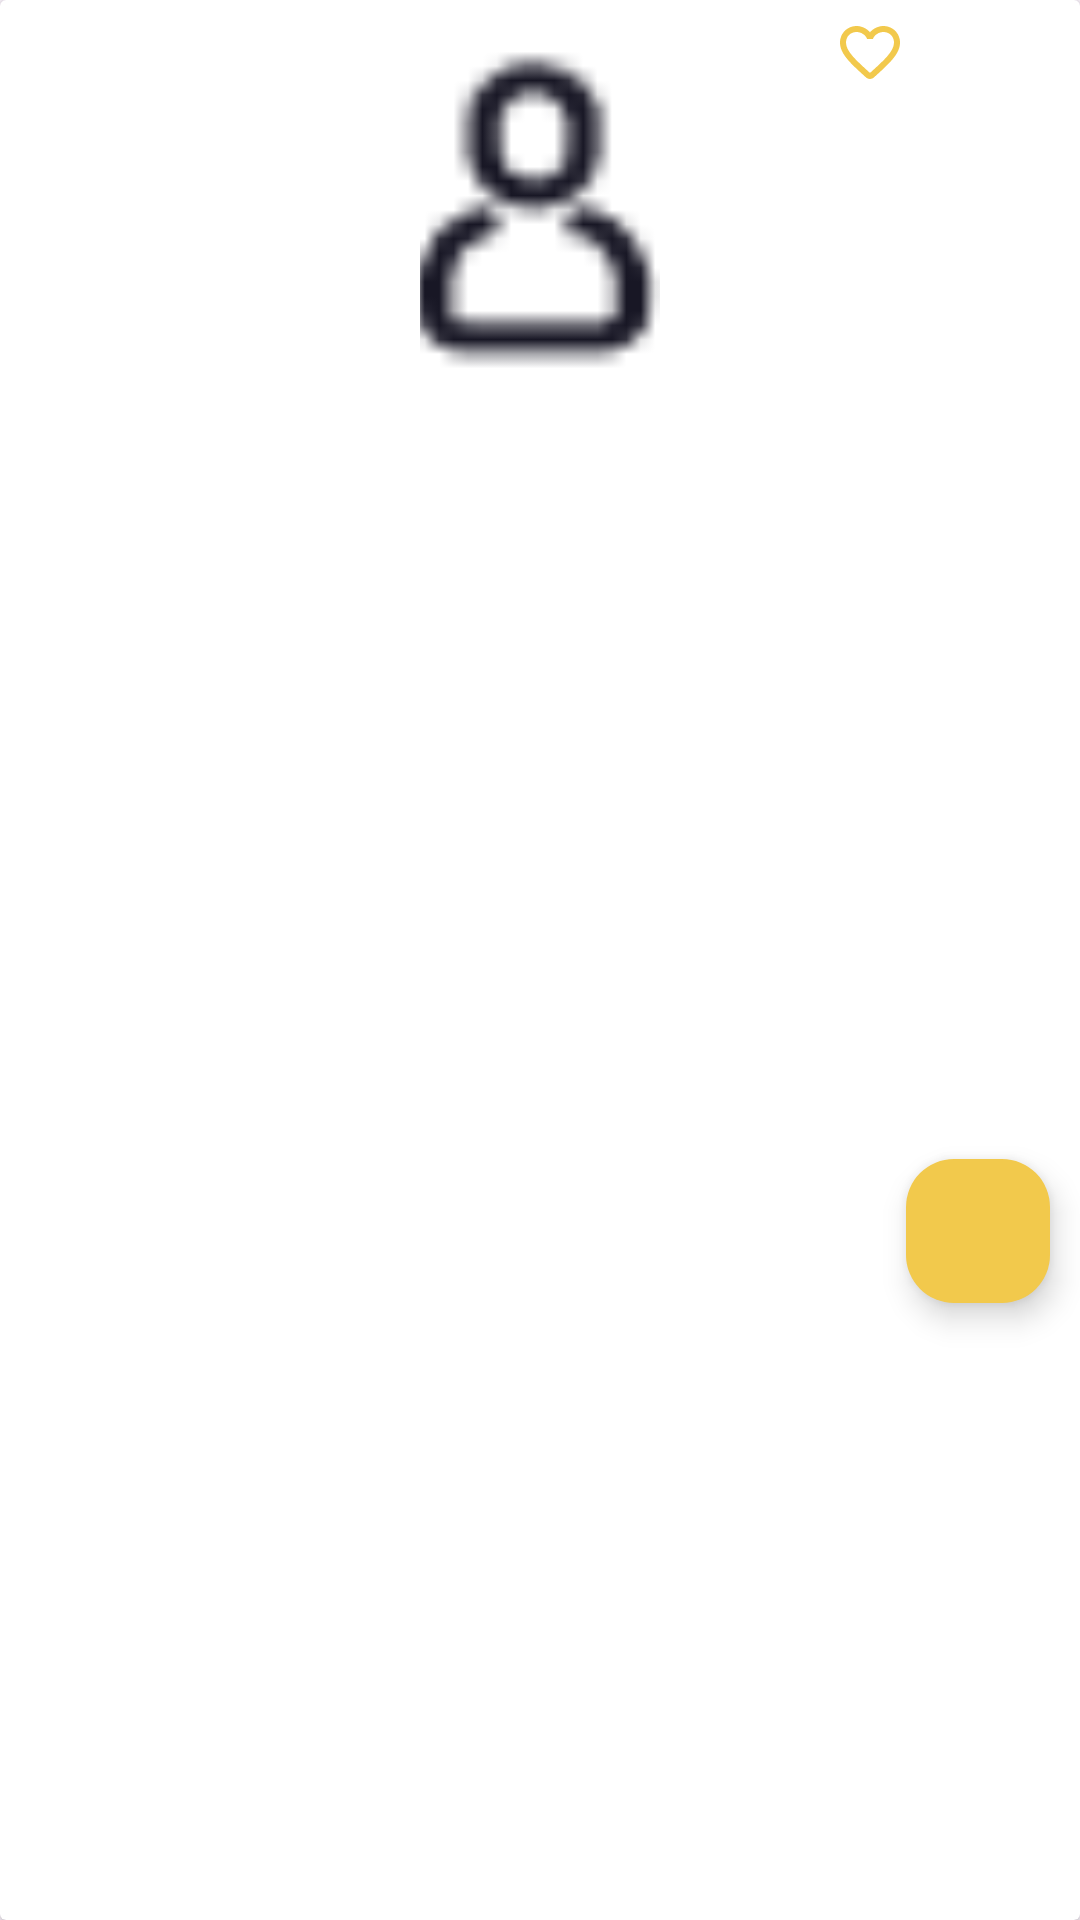

Icons on this 1080x1920 Android screen, each with its box as region(x1, y1, x2, y2):
favorite: region(840, 26, 900, 79)
profile: region(420, 54, 657, 364)
